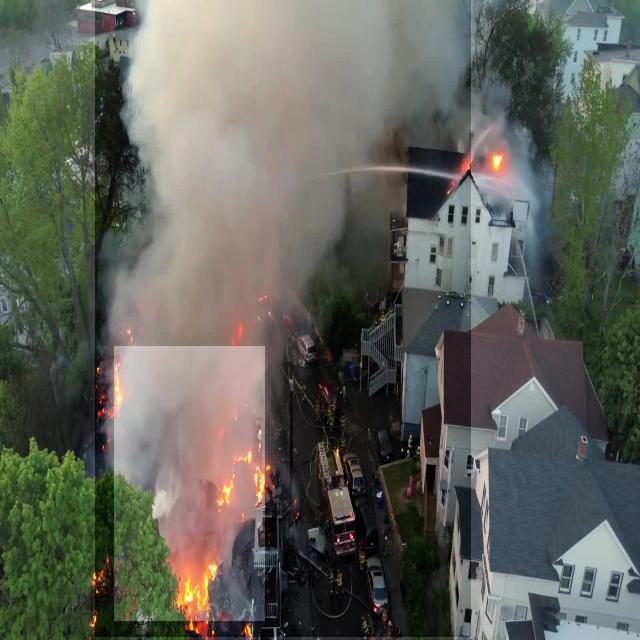Fire: (114, 346, 265, 621)
Smoke: (95, 0, 471, 637)
